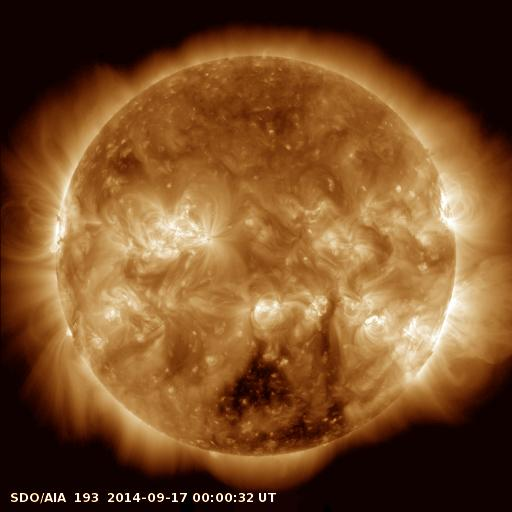coronal_hole: (204, 340, 351, 462)
